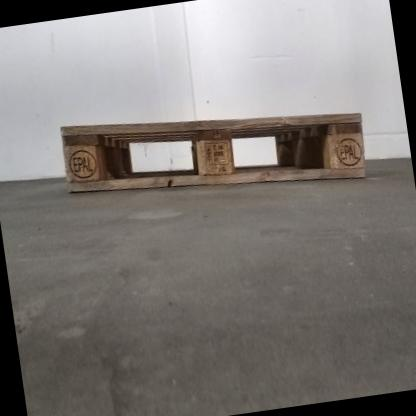BoxFace: (58, 105, 368, 193)
